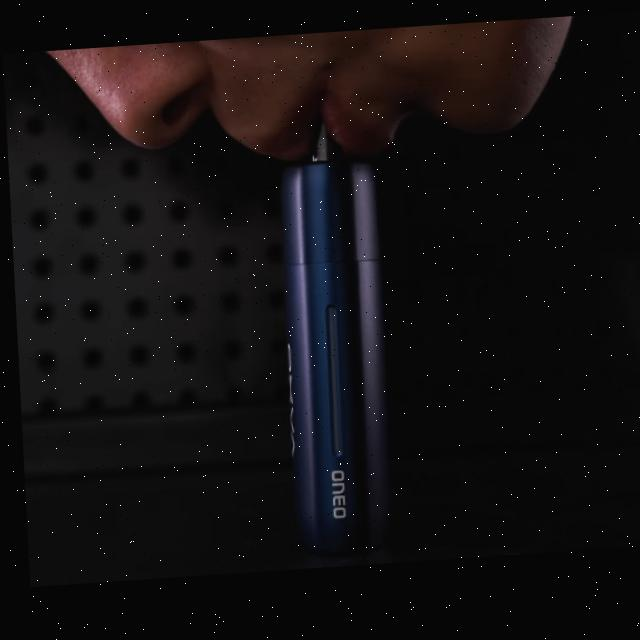vape: (268, 120, 391, 565)
